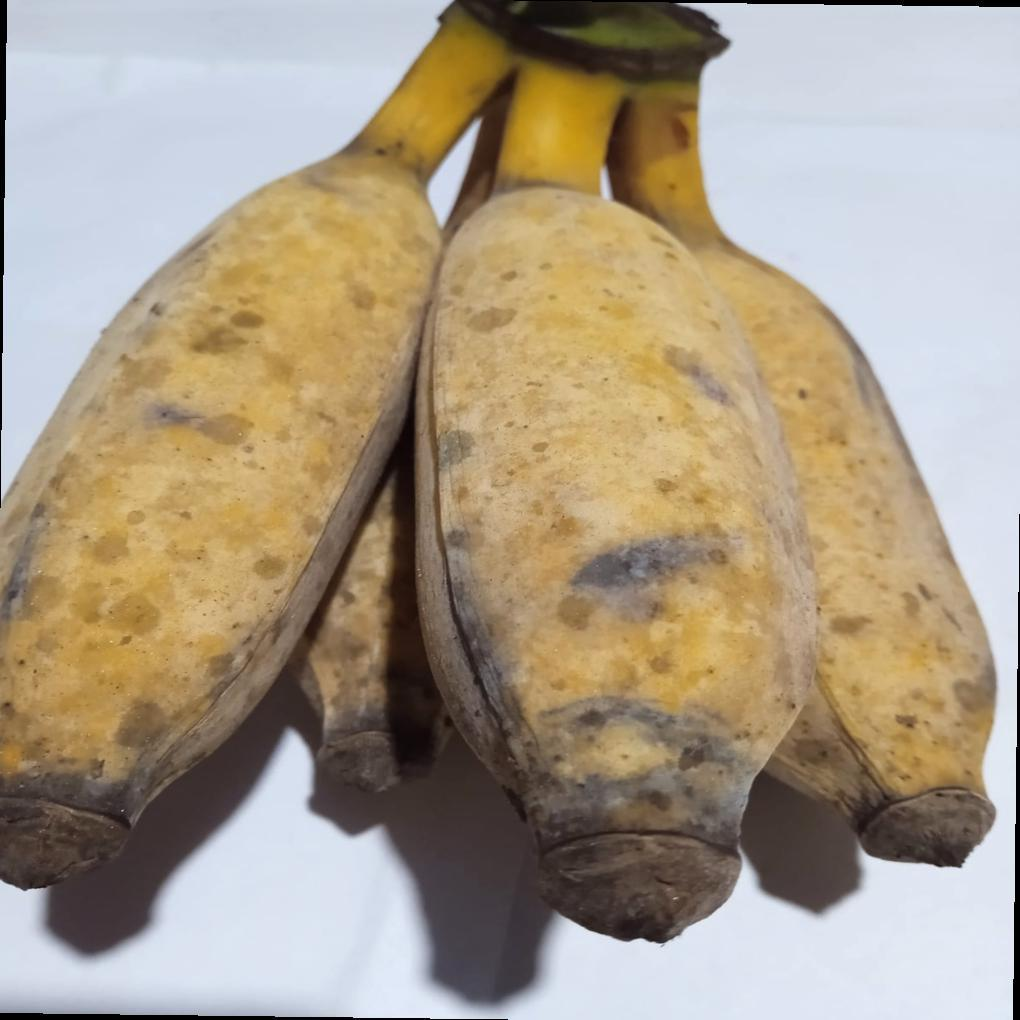Banana Ripe: (9, 0, 999, 976), (422, 0, 1020, 947), (6, 0, 430, 1003)
